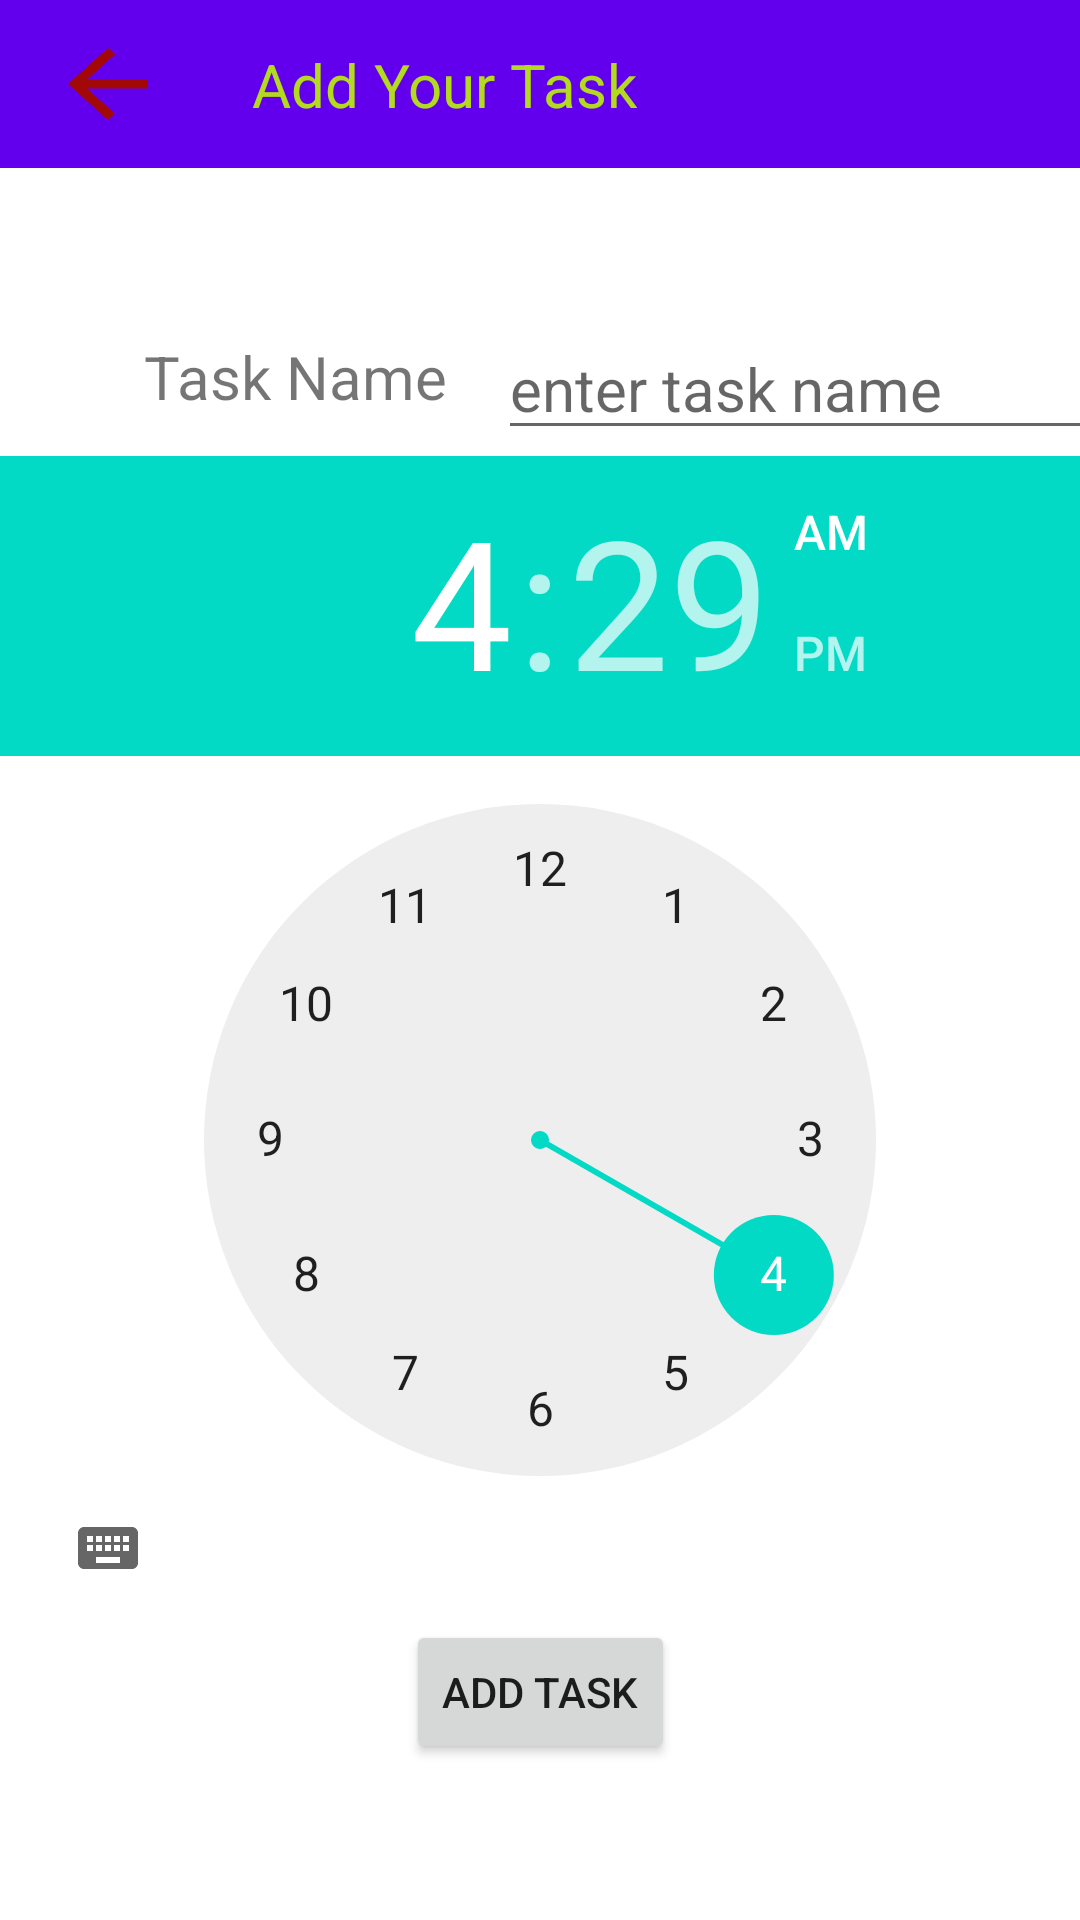

Icons on this 1080*1920 Android screen, each with its box as rect(x1, y1, x2, y2):
arrow back: rect(68, 48, 148, 120)
